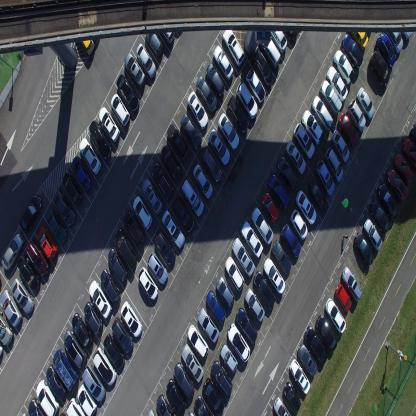car: (52, 348, 79, 392), (226, 321, 251, 362), (81, 362, 106, 402), (93, 346, 117, 387), (161, 210, 185, 250), (63, 328, 87, 368), (304, 325, 328, 365), (116, 73, 140, 113), (232, 236, 255, 277), (181, 177, 204, 218), (181, 343, 204, 384), (310, 95, 334, 134), (18, 195, 42, 234), (89, 119, 111, 161), (113, 228, 136, 268), (89, 280, 112, 320), (221, 26, 244, 66), (120, 300, 144, 338), (52, 189, 76, 227), (0, 288, 22, 329), (251, 206, 274, 245), (235, 306, 258, 345), (1, 232, 24, 271), (240, 219, 264, 256), (17, 254, 41, 291), (187, 90, 209, 130), (25, 240, 50, 275), (122, 211, 145, 249), (315, 314, 338, 352), (36, 379, 60, 415), (10, 277, 34, 313), (253, 270, 275, 309), (167, 122, 189, 161), (236, 80, 258, 119), (293, 121, 315, 160), (79, 136, 101, 175), (111, 316, 134, 353), (150, 163, 172, 201), (196, 75, 218, 113), (218, 112, 240, 150), (208, 128, 230, 166), (173, 362, 195, 400), (45, 206, 67, 244), (268, 174, 291, 210), (301, 109, 324, 145), (377, 182, 398, 221), (197, 306, 219, 343), (172, 196, 194, 233), (180, 113, 202, 150), (202, 378, 224, 415), (263, 257, 285, 294), (324, 297, 346, 334), (124, 52, 146, 89), (98, 105, 120, 142), (319, 79, 342, 114), (141, 178, 162, 216), (192, 162, 213, 200), (211, 359, 232, 397), (187, 323, 209, 359), (333, 48, 355, 84), (341, 32, 363, 68), (289, 358, 311, 394), (253, 48, 273, 87), (72, 311, 92, 350), (100, 267, 121, 304), (260, 31, 281, 68), (103, 332, 124, 369), (135, 42, 156, 79), (386, 169, 408, 204), (160, 144, 180, 182), (245, 66, 265, 104), (228, 96, 248, 134), (244, 287, 265, 323), (295, 190, 316, 226), (277, 156, 298, 192), (327, 66, 348, 102), (37, 226, 58, 262), (154, 231, 176, 265), (368, 199, 390, 233), (272, 239, 292, 276), (370, 49, 390, 86), (147, 250, 168, 285), (213, 45, 234, 80), (285, 139, 306, 174), (341, 266, 362, 301), (224, 254, 244, 290), (201, 146, 221, 182), (46, 364, 66, 400), (110, 92, 130, 128), (71, 156, 91, 192), (384, 18, 403, 55), (132, 195, 152, 230), (281, 223, 301, 258), (376, 32, 396, 67), (338, 112, 358, 147), (62, 171, 82, 206), (353, 232, 374, 265), (316, 158, 334, 196), (138, 266, 158, 300), (84, 301, 104, 335), (166, 378, 186, 412), (298, 343, 318, 377), (363, 217, 383, 251), (392, 154, 413, 186), (325, 145, 343, 182), (76, 21, 95, 56), (206, 290, 226, 323), (278, 8, 298, 41), (330, 129, 350, 162), (348, 18, 369, 49), (156, 10, 174, 46), (108, 248, 127, 282), (356, 86, 375, 120), (347, 98, 366, 132), (77, 383, 97, 415), (394, 6, 414, 38), (306, 179, 326, 210), (216, 275, 234, 309), (206, 62, 224, 96), (219, 342, 238, 374), (289, 209, 308, 241), (144, 25, 163, 57), (261, 192, 279, 224), (400, 137, 416, 172), (283, 382, 301, 413), (334, 282, 352, 313), (0, 310, 15, 346), (270, 22, 288, 51), (193, 395, 213, 415), (65, 396, 86, 415), (156, 394, 174, 415), (273, 396, 292, 415), (27, 397, 47, 415), (408, 122, 416, 140), (145, 408, 155, 416), (0, 341, 4, 359), (186, 409, 196, 415)
